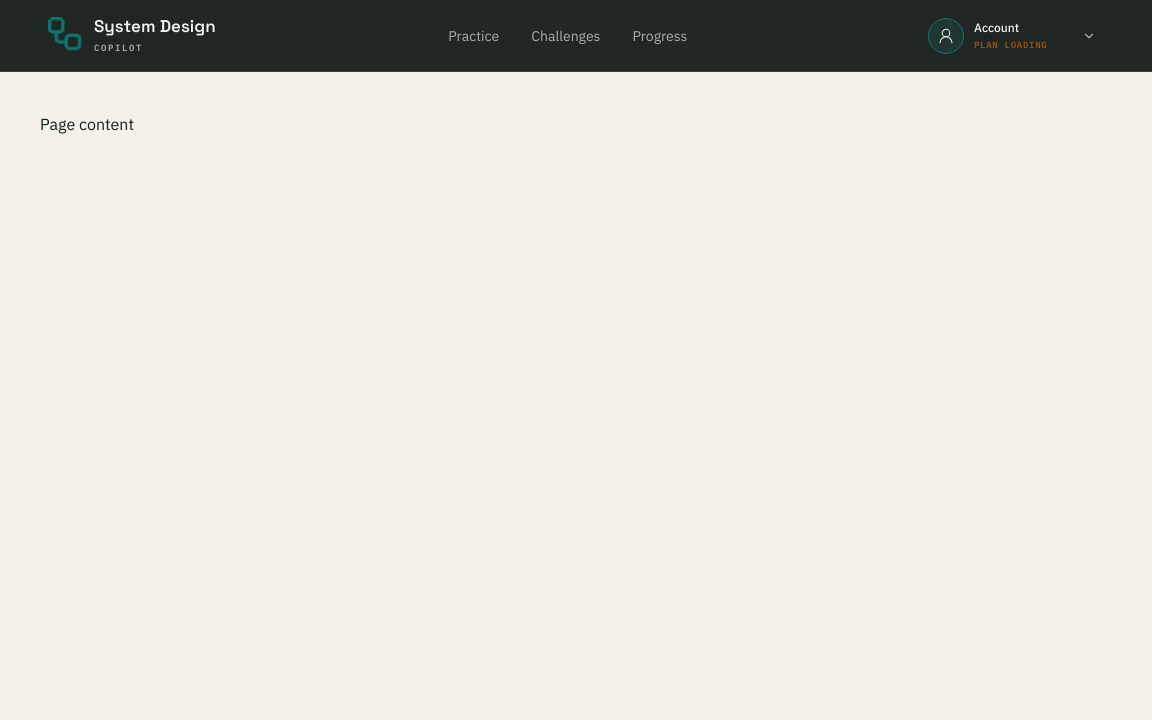
Test: AppShell account menu › opens the Pencil-matched overview action and keeps profile details separate
Click the button with aria-label "Open account menu" at (1012,36), box [920,16,1104,56]
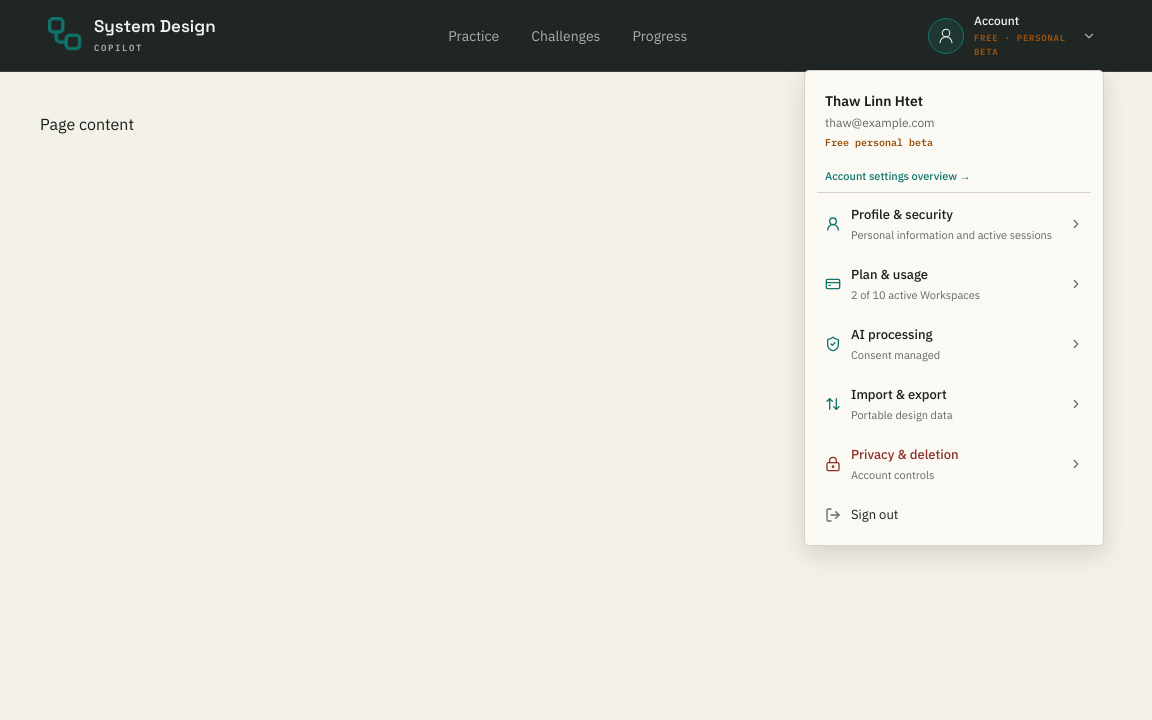
Expected: the text "FREE · PERSONAL BETA" is shown once, [974,31,1072,58]
Now the menu with test id "account-menu" is shown, box [804,70,1104,546]
Now the button with aria-label "Close account menu" shows "PERSONAL BETA", box [920,16,1104,56]
